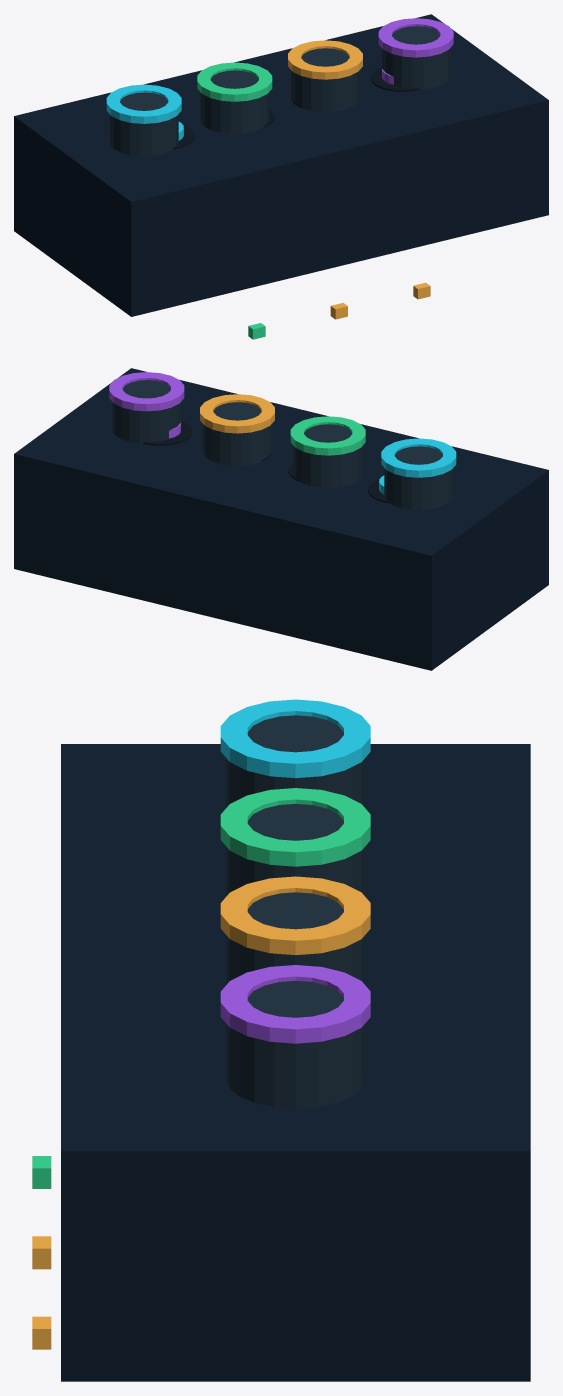
Rendered from 38_L80_PhotodiodeReceiverArray.fbx.
The picture shows the model from 3 angles, top to bottom: view 1: azimuth 30°, elevation 25°; view 2: azimuth 150°, elevation 25°; view 3: azimuth 270°, elevation 25°; orthographic projection. The views are drawn at different scales.
Visible parts, largest first — view 1: PhotodiodeReceiverArray; view 2: PhotodiodeReceiverArray, PhotodiodeReceiverArray_Part_0016; view 3: PhotodiodeReceiverArray.
Boxes of the visible parts, bbox=[...] form: PhotodiodeReceiverArray: bbox=[14, 14, 548, 339]; PhotodiodeReceiverArray: bbox=[14, 368, 548, 670]; PhotodiodeReceiverArray_Part_0016: bbox=[143, 421, 191, 445]; PhotodiodeReceiverArray: bbox=[32, 699, 530, 1381].
Size of the model in its own units: 152 by 70.05 by 78.5.
